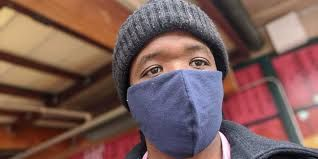with-mask: (115, 25, 234, 159)
